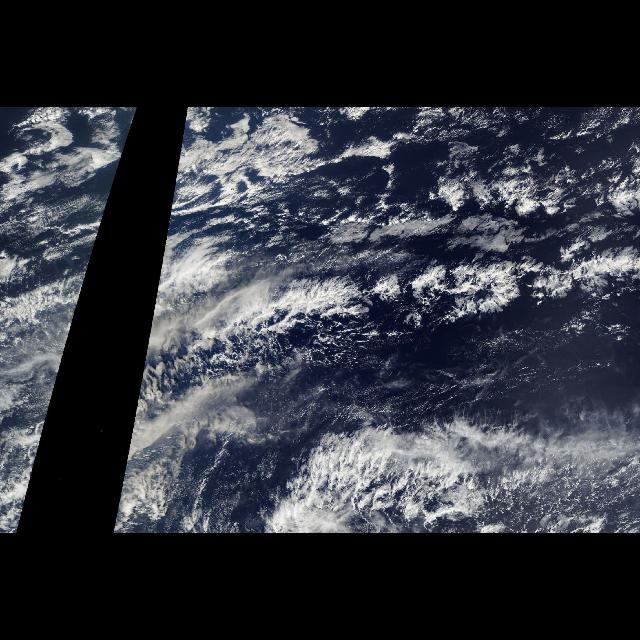Flower: (305, 245, 639, 322)
Sugar: (352, 324, 552, 420)
